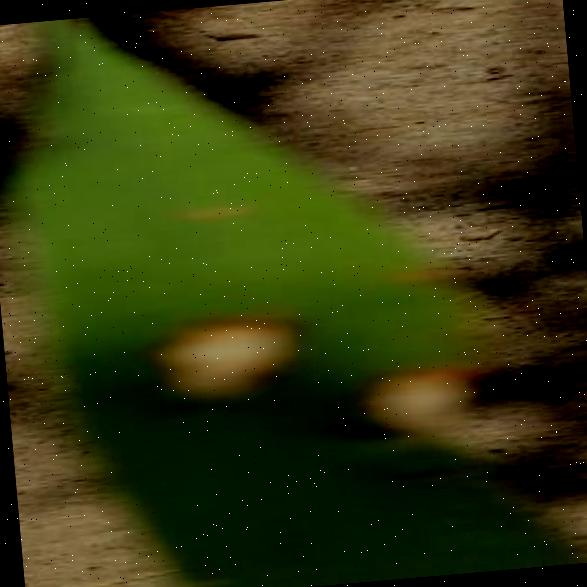Leaf_smut: (111, 276, 340, 440), (331, 324, 514, 452)
